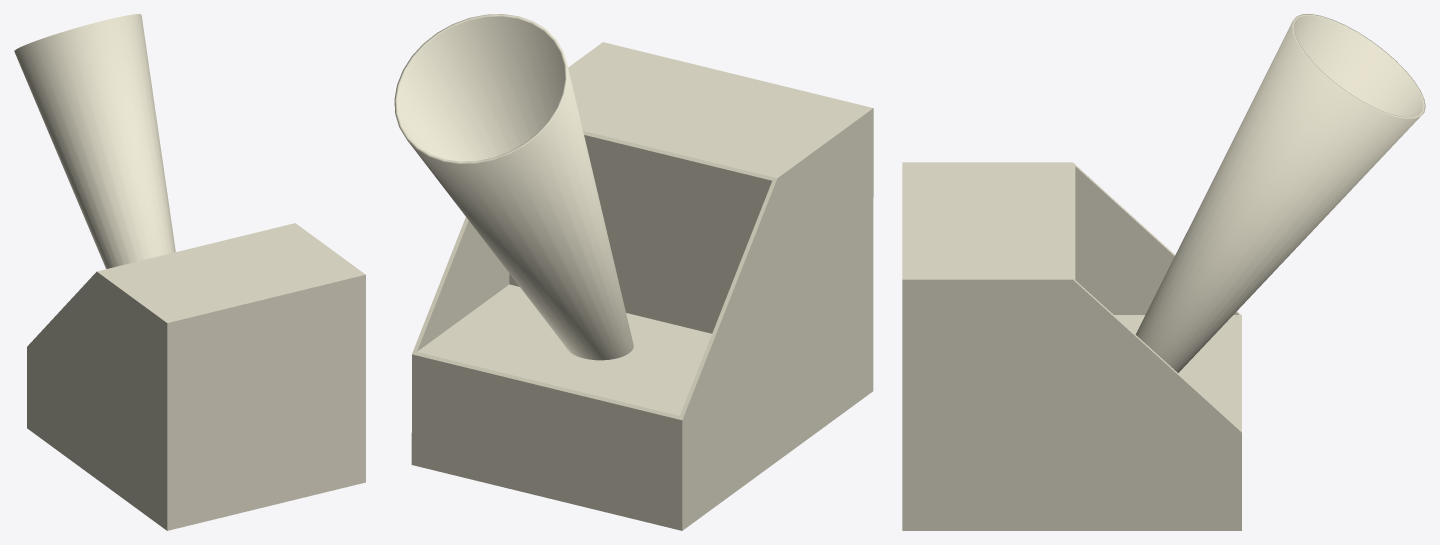
File: Machine.fbx
The picture shows the model from 3 angles, left to right: view 1: azimuth 30°, elevation 25°; view 2: azimuth 150°, elevation 25°; view 3: azimuth 270°, elevation 25°; orthographic projection. The views are drawn at different scales.
Parts seen in each view (by area): view 1: Canon; view 2: Canon; view 3: Canon.
Part boxes in pixels (x1,y1,x2,y2): Canon: (14, 14, 365, 530); Canon: (394, 14, 873, 530); Canon: (902, 14, 1425, 530).
Bounding box in the file's own units: 2 × 3.55 × 3.77.
